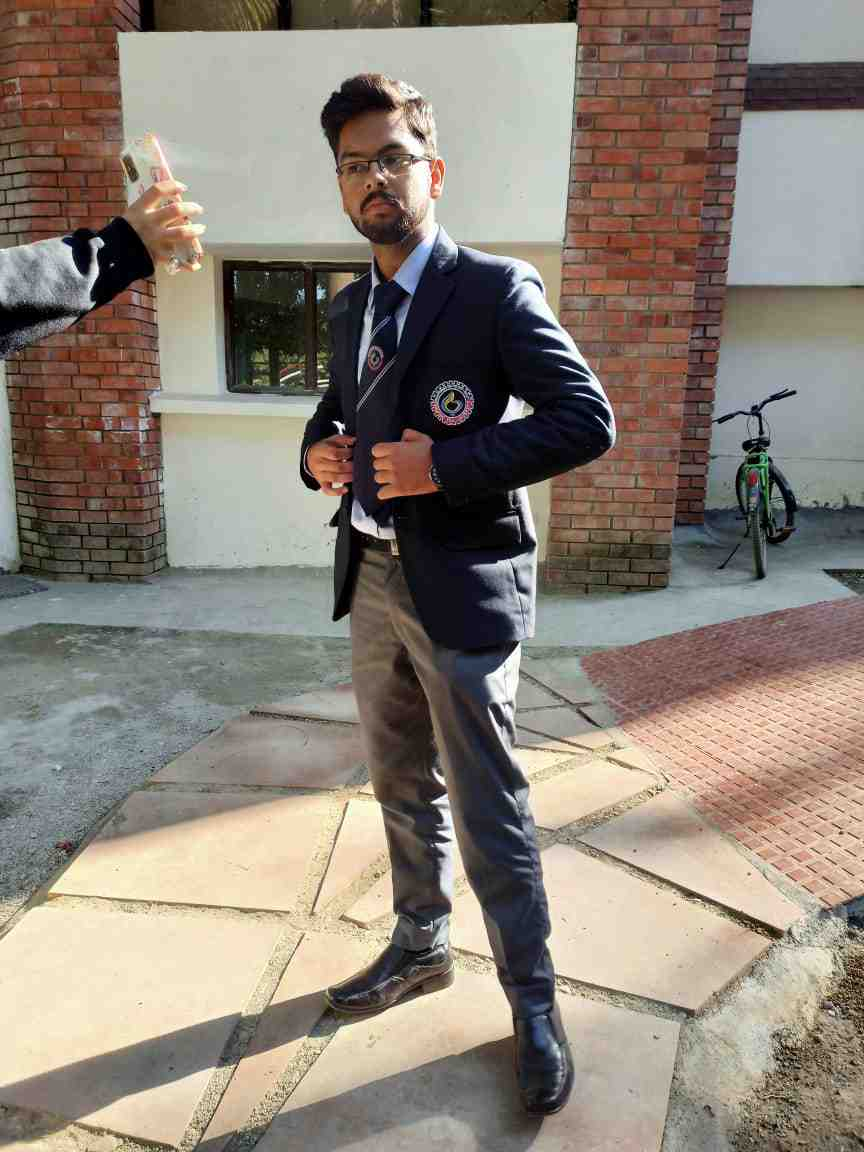blazer: (303, 241, 610, 657)
pant: (353, 550, 526, 983)
tie: (346, 275, 411, 521)
